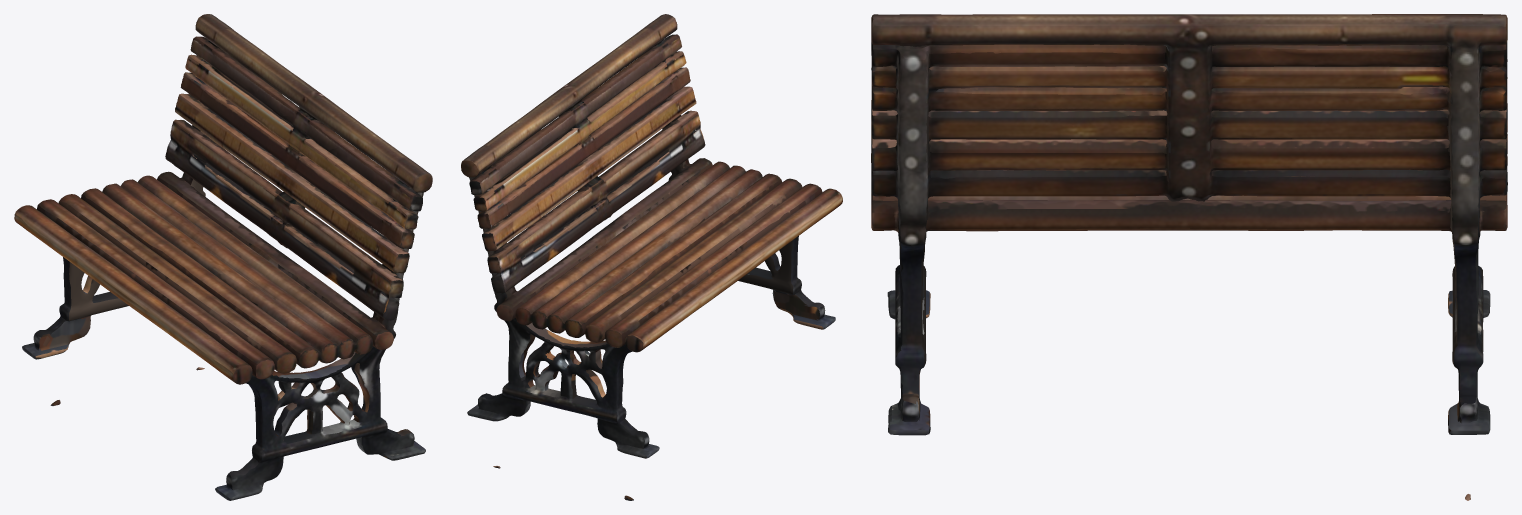
Rendered from banco_plaza.glb.
The picture shows the model from 3 angles, left to right: view 1: azimuth 30°, elevation 25°; view 2: azimuth 150°, elevation 25°; view 3: azimuth 270°, elevation 25°; orthographic projection. The views are drawn at different scales.
Parts seen in each view (by area): view 1: tmpvfevwo3e.ply; view 2: tmpvfevwo3e.ply; view 3: tmpvfevwo3e.ply.
Part boxes in pixels (x1,y1,x2,y2): tmpvfevwo3e.ply: [14, 14, 432, 500]; tmpvfevwo3e.ply: [461, 14, 842, 500]; tmpvfevwo3e.ply: [871, 14, 1507, 500].
Size of the model in its own units: 0.5253 by 0.8484 by 0.9896.
Materials: 1 (1 with a texture image).
